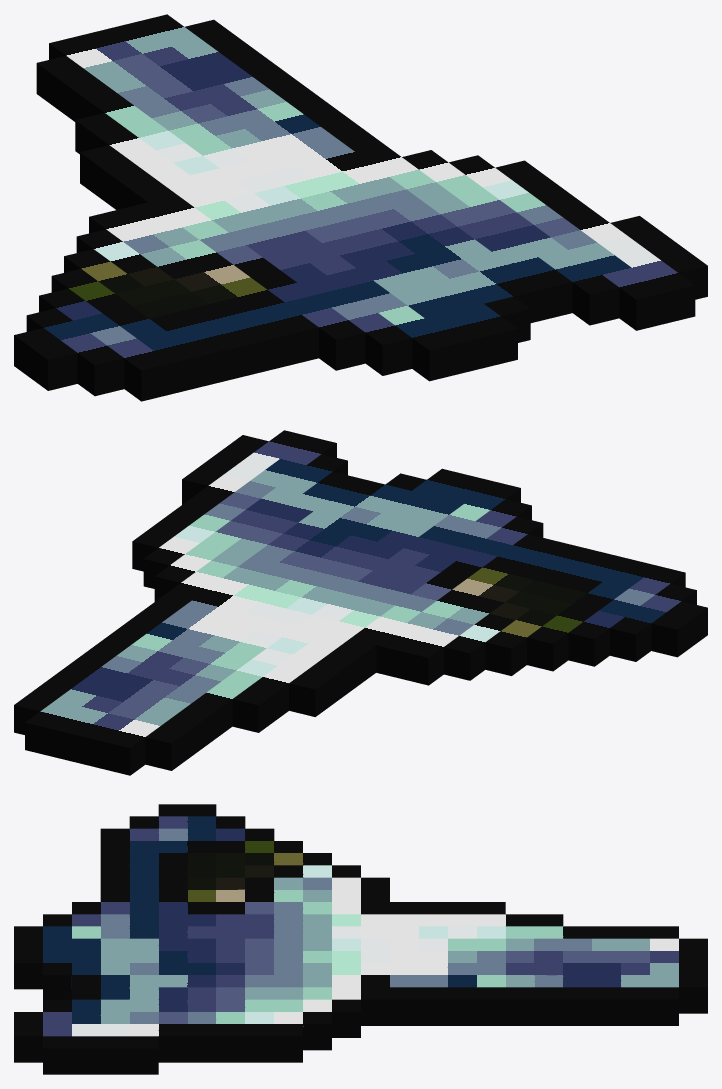
The model's file is playershipwing.obj.
3 renders of one model, top to bottom at view 1: azimuth 30°, elevation 25°; view 2: azimuth 150°, elevation 25°; view 3: azimuth 270°, elevation 25°, orthographic. The views are drawn at different scales.
Parts seen in each view (by area): view 1: PlayerShipWing_0, PlayerShipWing_1, PlayerShipWing_5, PlayerShipWing_2, PlayerShipWing_3, PlayerShipWing_4, PlayerShipWing_7, PlayerShipWing_9, PlayerShipWing_11, PlayerShipWing_6, PlayerShipWing_8, PlayerShipWing_12 (+6 smaller); view 2: PlayerShipWing_0, PlayerShipWing_1, PlayerShipWing_5, PlayerShipWing_3, PlayerShipWing_2, PlayerShipWing_4, PlayerShipWing_9, PlayerShipWing_7, PlayerShipWing_6, PlayerShipWing_11, PlayerShipWing_8, PlayerShipWing_10 (+5 smaller); view 3: PlayerShipWing_0, PlayerShipWing_2, PlayerShipWing_1, PlayerShipWing_11, PlayerShipWing_5, PlayerShipWing_3, PlayerShipWing_4, PlayerShipWing_7, PlayerShipWing_9, PlayerShipWing_15, PlayerShipWing_6, PlayerShipWing_8 (+6 smaller).
Boxes of the visible parts, x1,y1,x2,y2 form: PlayerShipWing_0: (49, 14, 542, 322); PlayerShipWing_1: (36, 56, 458, 381); PlayerShipWing_5: (89, 202, 318, 372); PlayerShipWing_2: (185, 19, 572, 320); PlayerShipWing_3: (75, 113, 412, 375); PlayerShipWing_4: (80, 145, 365, 370); PlayerShipWing_7: (402, 150, 619, 325); PlayerShipWing_9: (449, 155, 665, 330); PlayerShipWing_11: (495, 160, 695, 323); PlayerShipWing_6: (76, 229, 259, 379); PlayerShipWing_8: (64, 249, 230, 386); PlayerShipWing_12: (39, 288, 170, 401); PlayerShipWing_0: (25, 478, 463, 775); PlayerShipWing_1: (145, 481, 520, 770); PlayerShipWing_5: (376, 534, 579, 685); PlayerShipWing_3: (232, 499, 531, 732); PlayerShipWing_2: (14, 472, 358, 734); PlayerShipWing_4: (289, 516, 543, 716); PlayerShipWing_9: (143, 436, 336, 588); PlayerShipWing_7: (154, 454, 347, 601); PlayerShipWing_6: (444, 547, 606, 680); PlayerShipWing_11: (132, 430, 309, 571); PlayerShipWing_8: (485, 553, 632, 675); PlayerShipWing_10: (527, 560, 658, 671); PlayerShipWing_0: (71, 938, 707, 1013); PlayerShipWing_2: (72, 987, 678, 1025); PlayerShipWing_1: (14, 926, 678, 938); PlayerShipWing_11: (14, 1024, 302, 1062); PlayerShipWing_5: (100, 877, 389, 901); PlayerShipWing_3: (43, 914, 563, 926); PlayerShipWing_4: (72, 902, 505, 914); PlayerShipWing_7: (43, 999, 360, 1037); PlayerShipWing_9: (14, 1012, 331, 1050); PlayerShipWing_15: (43, 1036, 158, 1074); PlayerShipWing_6: (100, 865, 360, 877); PlayerShipWing_8: (100, 853, 331, 865).
Bounding box in the file's own units: 1 × 0.05 × 1.2.
Materials: 1 (1 with a texture image).
